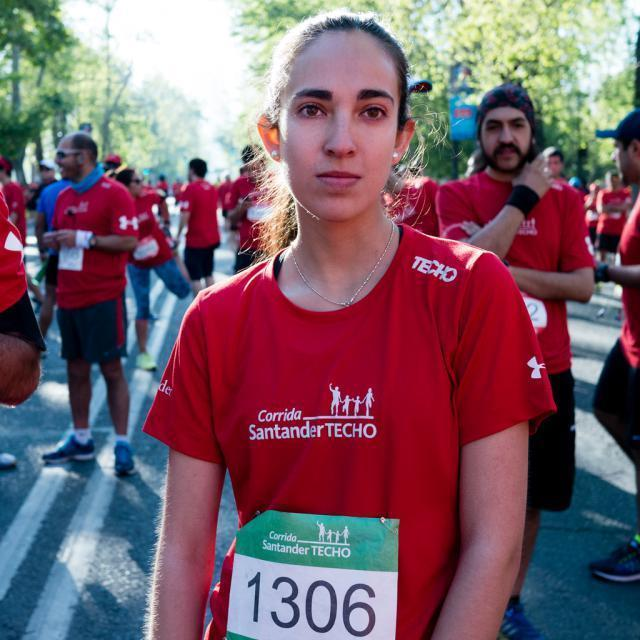closed-mouth: (313, 162, 360, 192)
